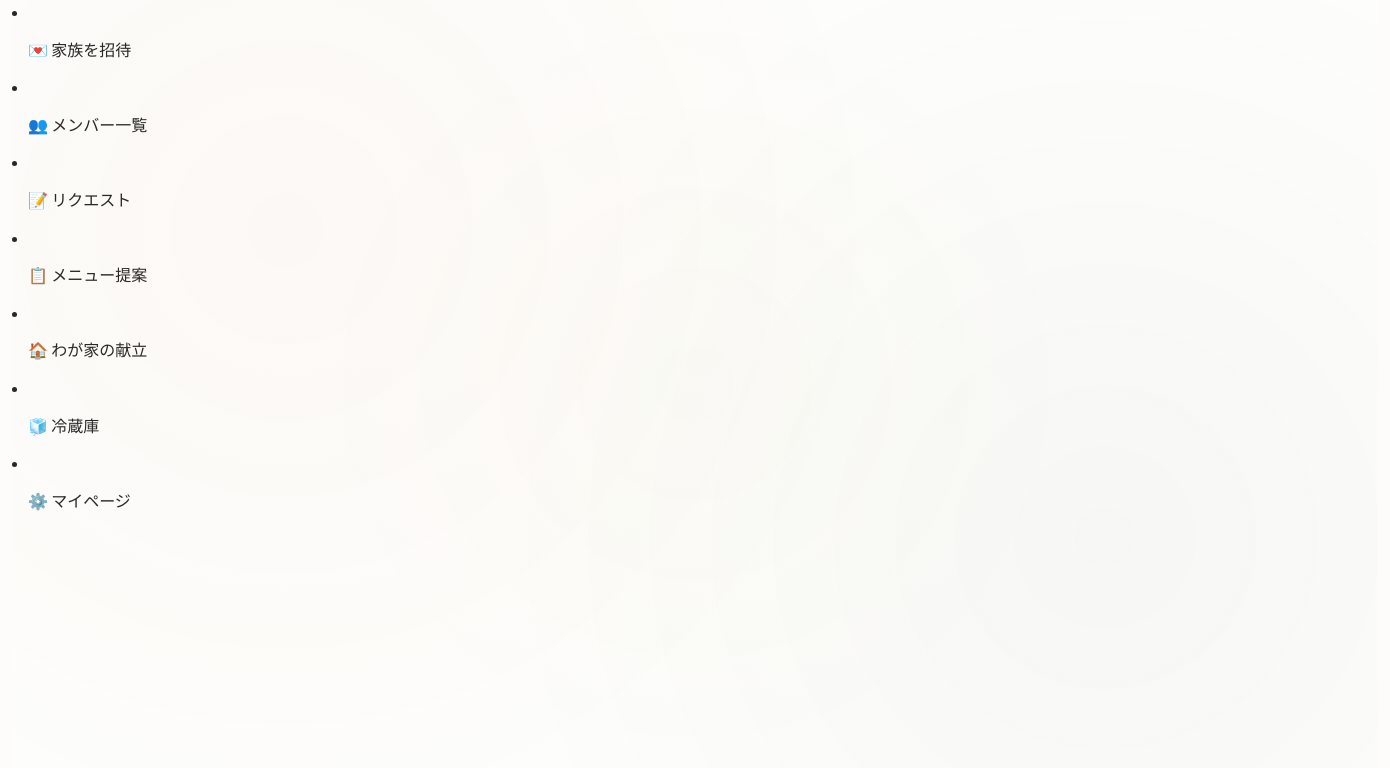
MobileAuthMenuItems › マイページクリックでサブメニューが表示される
Click the button "⚙️ マイページ".
click(79, 501)  # box [12,477,1378,526]
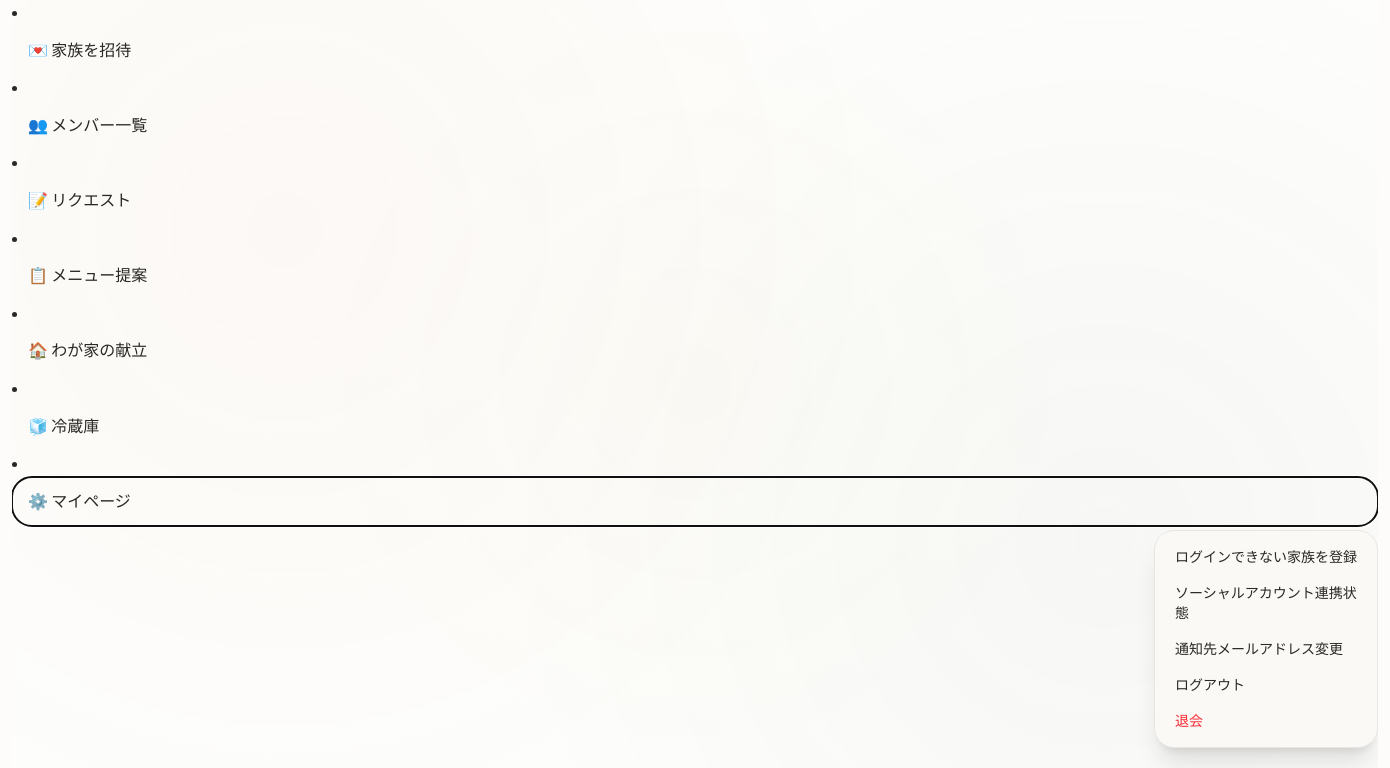
Result: the link "退会" is shown at [1175,712,1203,730]
